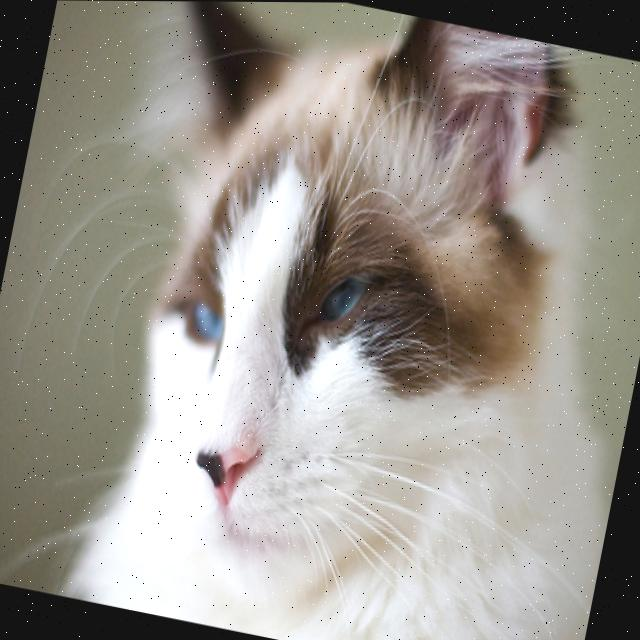Ragdoll: (48, 0, 640, 640)
